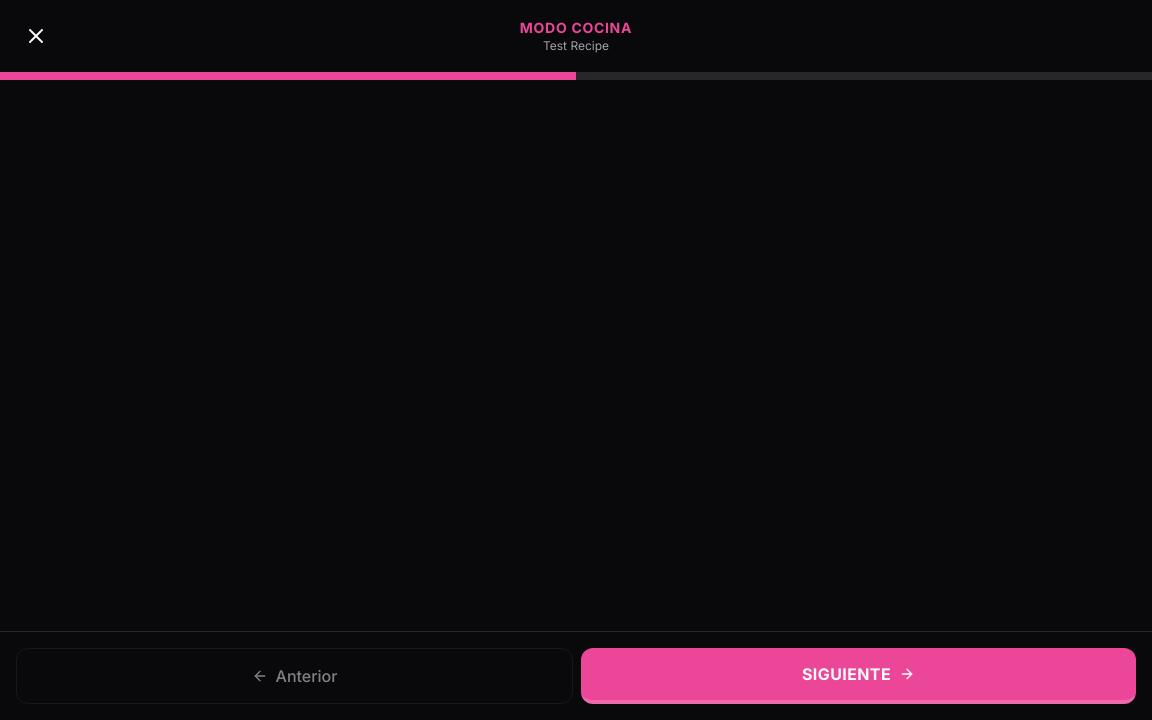
Scenario: CookingModeClient › navigates to next step
This screenshot has width=1152, height=720.
Click the button "Siguiente" at x=858, y=676, box [581,648,1136,704]
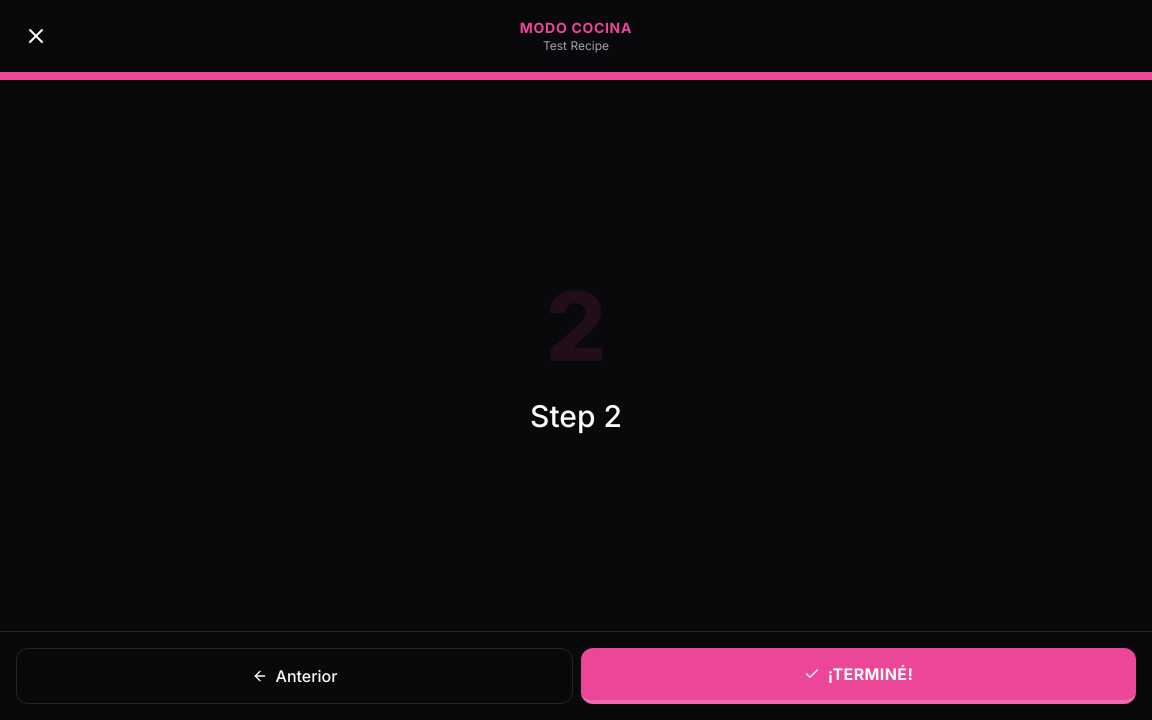
Expected: the text "Step 2" is shown, [530,398,622,434]
